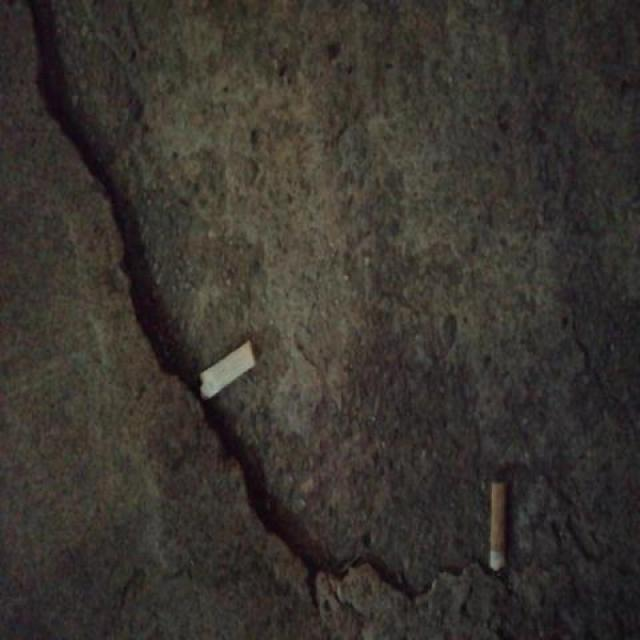non-organic waste: (194, 334, 258, 406), (486, 476, 510, 577)
